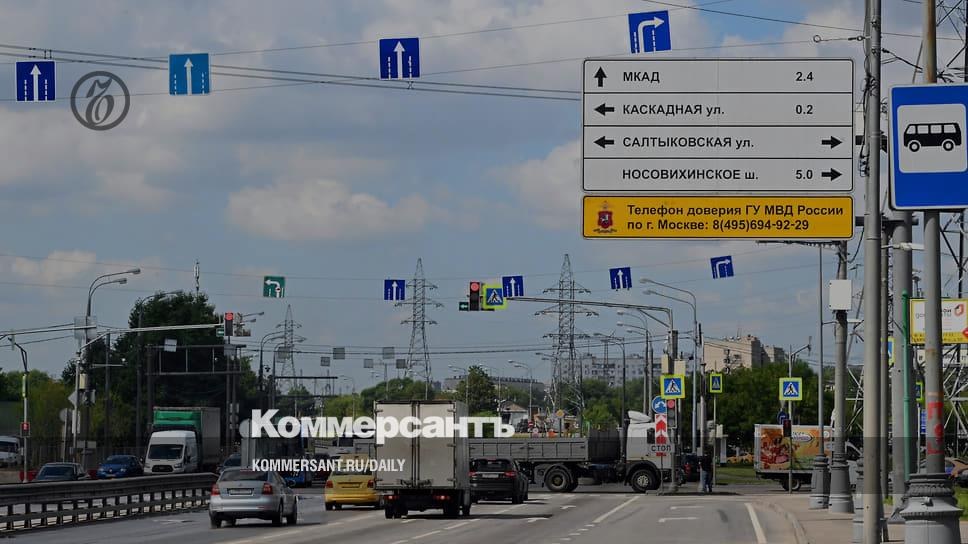tl: (459, 281, 482, 311), (215, 312, 234, 337)
